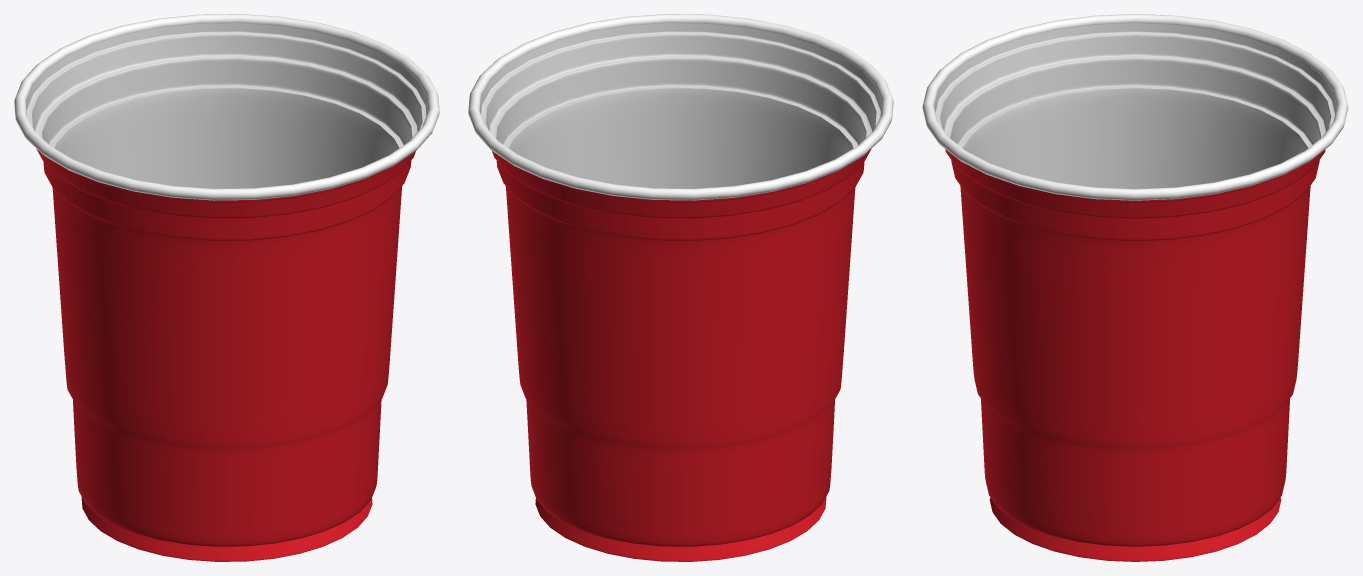
The model's file is CupModel.fbx.
The picture shows the model from 3 angles, left to right: view 1: azimuth 30°, elevation 25°; view 2: azimuth 150°, elevation 25°; view 3: azimuth 270°, elevation 25°; orthographic projection.
Visible parts, largest first — view 1: Cylinder, Cylinder.001; view 2: Cylinder, Cylinder.001; view 3: Cylinder, Cylinder.001.
Boxes of the visible parts, left/top/right/bottom form: Cylinder: left=26, top=23, right=427, bottom=561; Cylinder.001: left=14, top=14, right=439, bottom=200; Cylinder: left=480, top=23, right=881, bottom=561; Cylinder.001: left=468, top=14, right=893, bottom=200; Cylinder: left=934, top=23, right=1336, bottom=561; Cylinder.001: left=922, top=14, right=1348, bottom=200.
Bounding box in the file's own units: 291 × 301 × 291.
